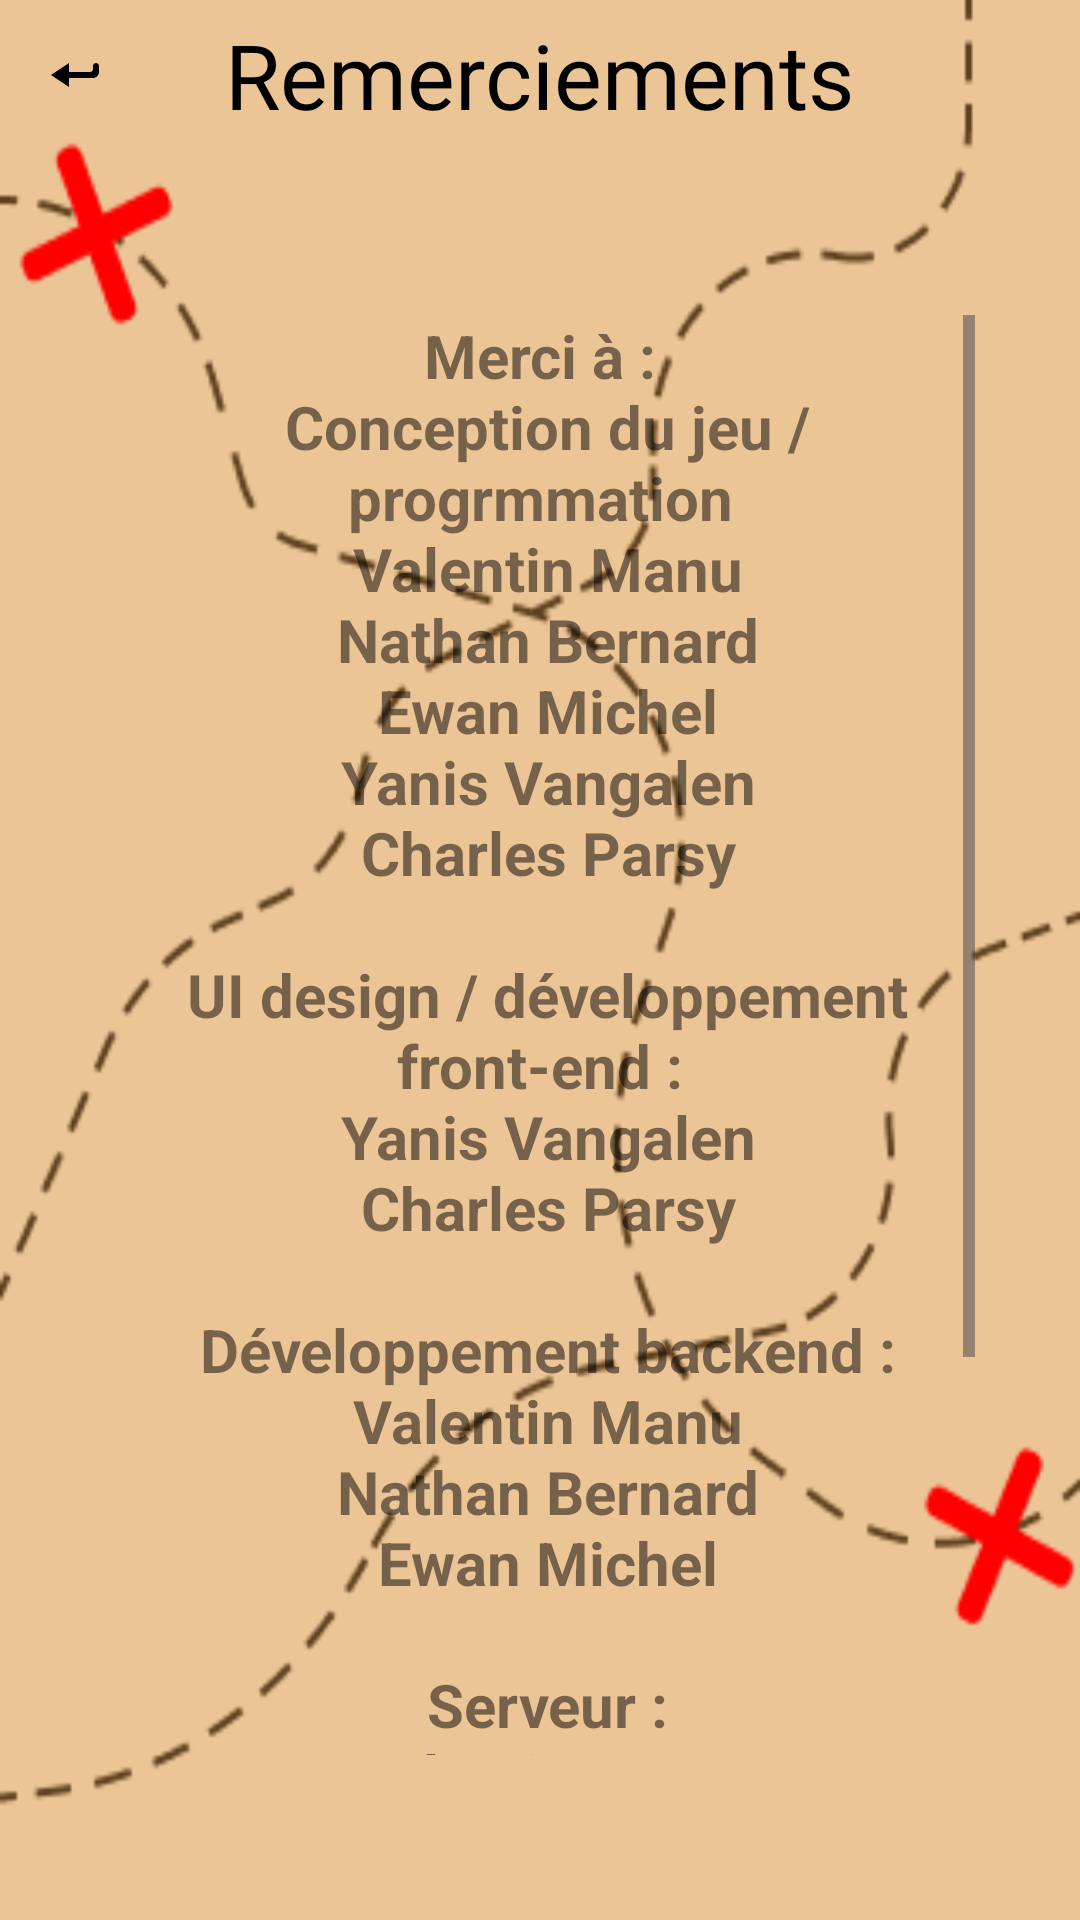

Named icons in this screenshot (1080px×1920px) and their centers, (x=x, y=y):
Retour: (x=75, y=75)
